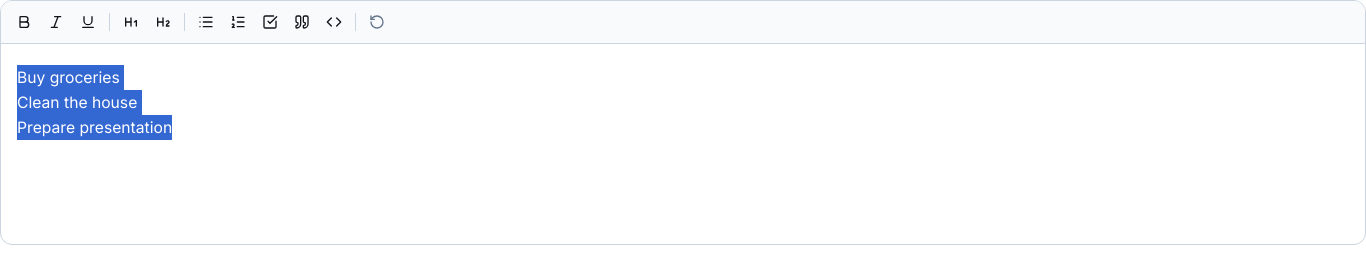
Test case: RichTextEditor Component › splits multi-line text into individual task items when Checklist is clicked
The width and height of the screenshot is (1366, 262).
Click the button titled "Checklist": (270, 22) [255,7,285,37]
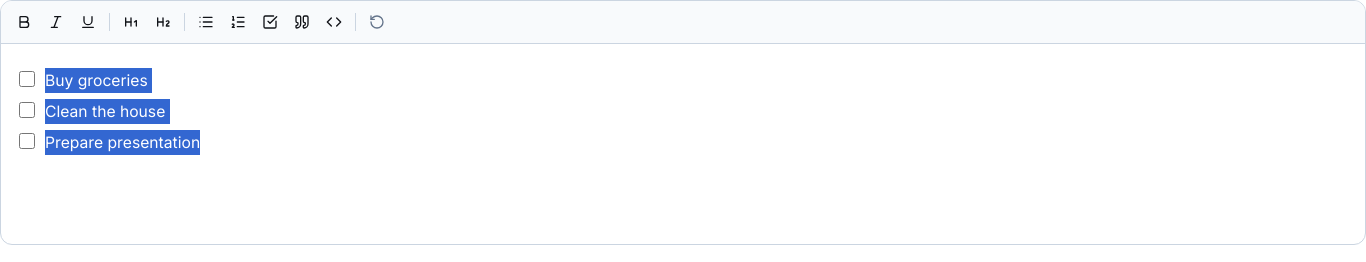
Check: the list item "Buy groceries" is shown, box [18,71,297,100]
Check: the number of list items is 3, box [18,71,297,100]; [18,102,315,132]; [18,133,350,163]
Check: the number of checkboxes is 3, box [19,71,35,87]; [19,102,35,118]; [19,133,35,149]
